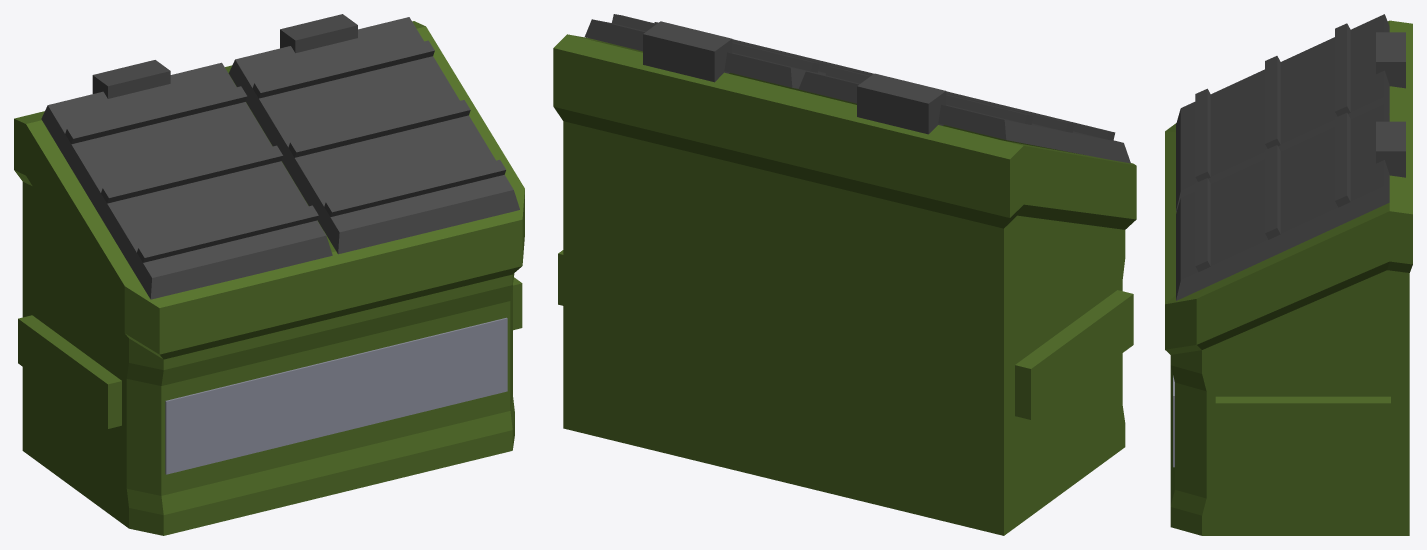
Rendered from prop-trashcontainer.glb.
The picture shows the model from 3 angles, left to right: view 1: azimuth 30°, elevation 25°; view 2: azimuth 150°, elevation 25°; view 3: azimuth 270°, elevation 25°; orthographic projection. The views are drawn at different scales.
Parts seen in each view (by area): view 1: TrashContainer; view 2: TrashContainer; view 3: TrashContainer.
Part boxes in pixels (x1=…): TrashContainer: x1=14, y1=14, x2=524, y2=535; TrashContainer: x1=553, y1=14, x2=1136, y2=535; TrashContainer: x1=1165, y1=14, x2=1412, y2=535.
Bounding box in the file's own units: 2.44 × 2.03 × 1.3.
